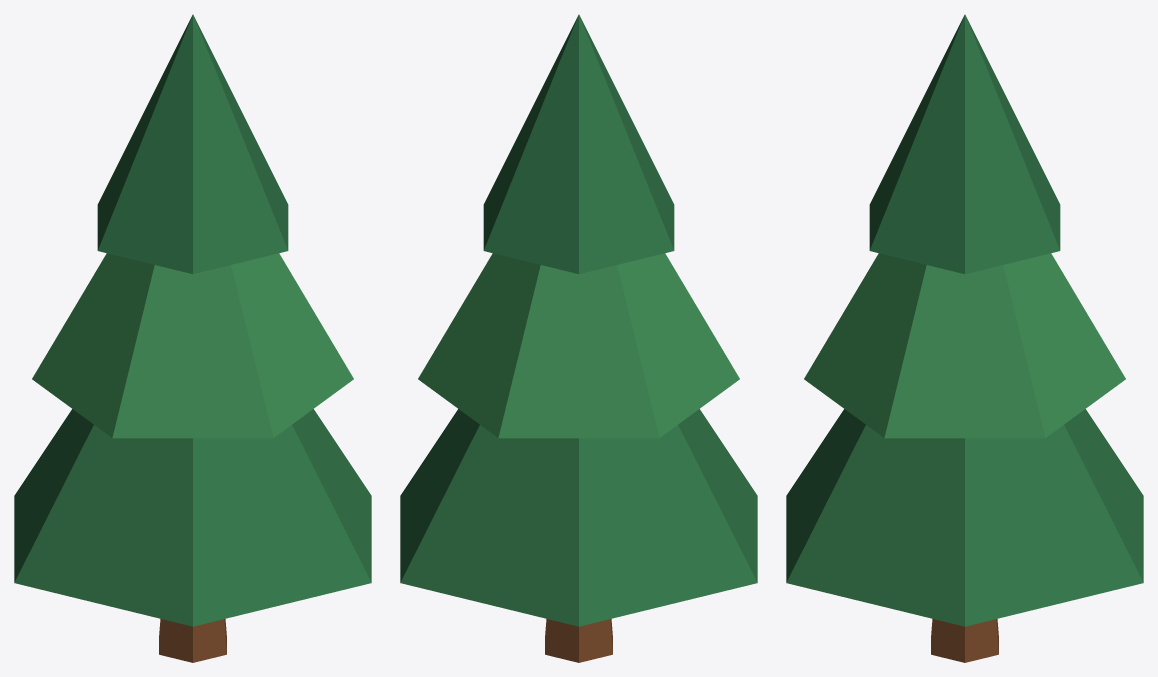
The model's file is prop-pine-tree.glb.
3 renders of one model, left to right at view 1: azimuth 30°, elevation 25°; view 2: azimuth 150°, elevation 25°; view 3: azimuth 270°, elevation 25°, orthographic.
Visible parts, largest first — view 1: PineTree; view 2: PineTree; view 3: PineTree.
Part boxes in pixels (<box>): PineTree: <box>14,14,371,662</box>; PineTree: <box>400,14,757,662</box>; PineTree: <box>786,14,1143,662</box>.
Size of the model in its own units: 2.1 by 3.55 by 1.82.
